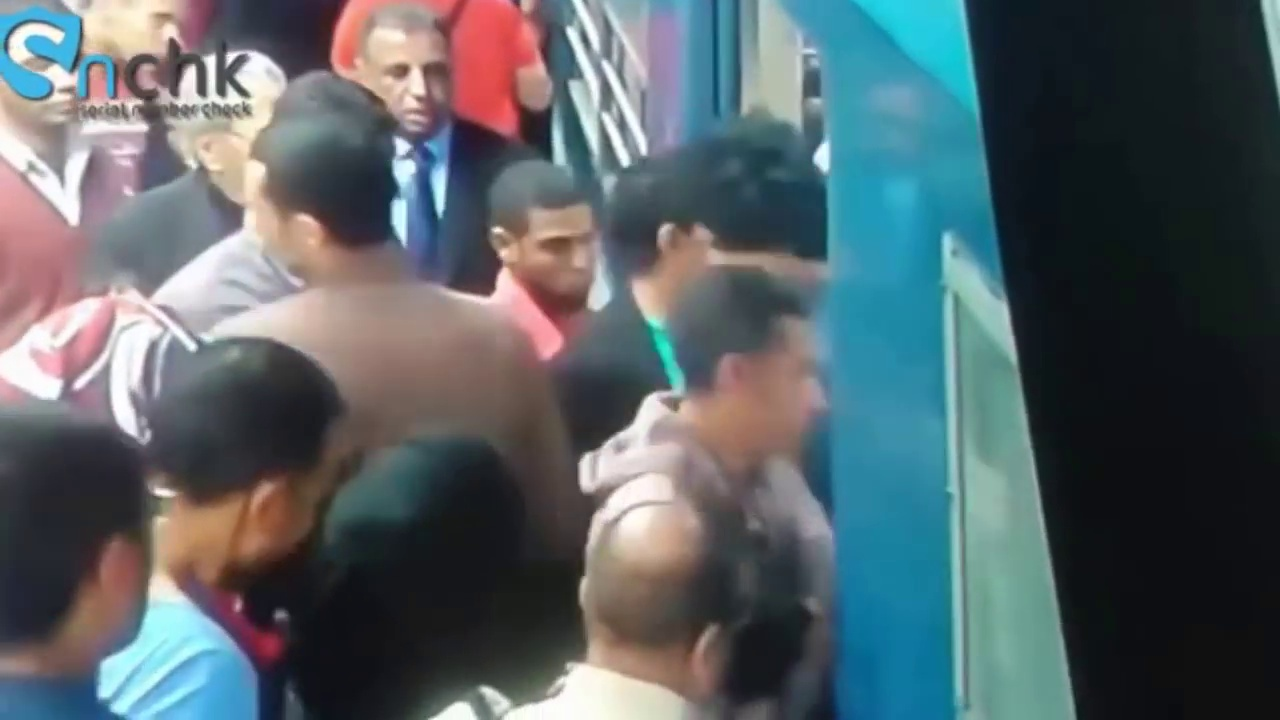face: (522, 211, 605, 306), (377, 37, 453, 127)
